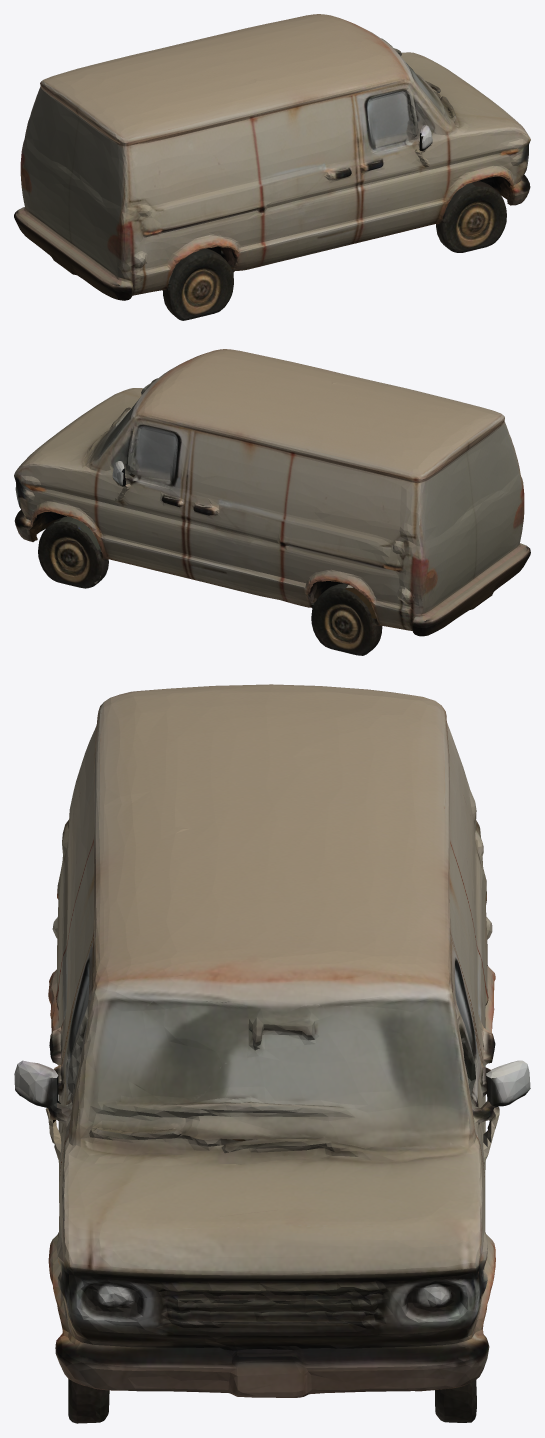
Rendered from rusted_van.glb.
3 views of the same model, one above another, from view 1: azimuth 30°, elevation 25°; view 2: azimuth 150°, elevation 25°; view 3: azimuth 270°, elevation 25° (orthographic). The views are drawn at different scales.
Visible parts, largest first — view 1: tmp3rkjtt3g.ply; view 2: tmp3rkjtt3g.ply; view 3: tmp3rkjtt3g.ply.
Boxes of the visible parts, x1=… form: tmp3rkjtt3g.ply: x1=14, y1=14, x2=530, y2=320; tmp3rkjtt3g.ply: x1=14, y1=349, x2=530, y2=655; tmp3rkjtt3g.ply: x1=14, y1=684, x2=530, y2=1423.
Size of the model in its own units: 5 by 2.21 by 2.61.
1 material, 1 textured.
